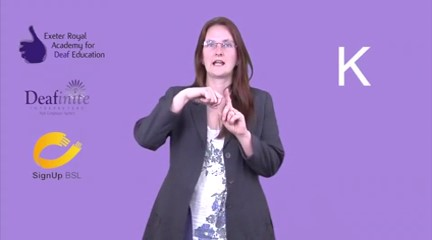K: (172, 80, 252, 148)
